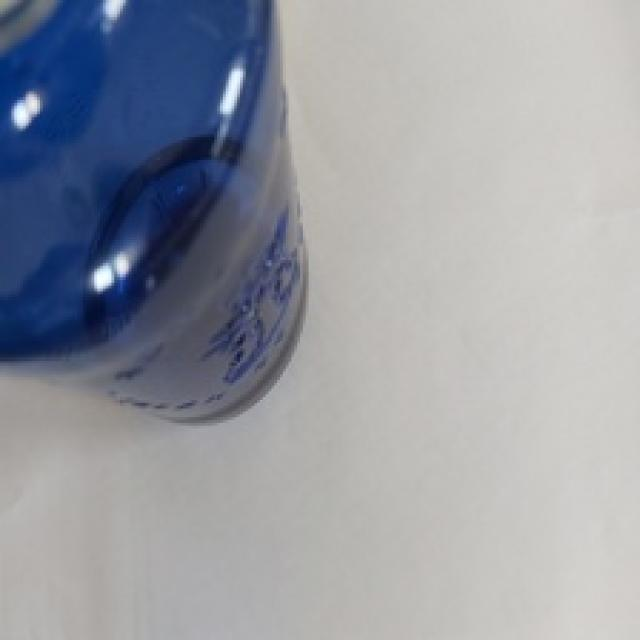Plastic: (0, 0, 316, 424)
